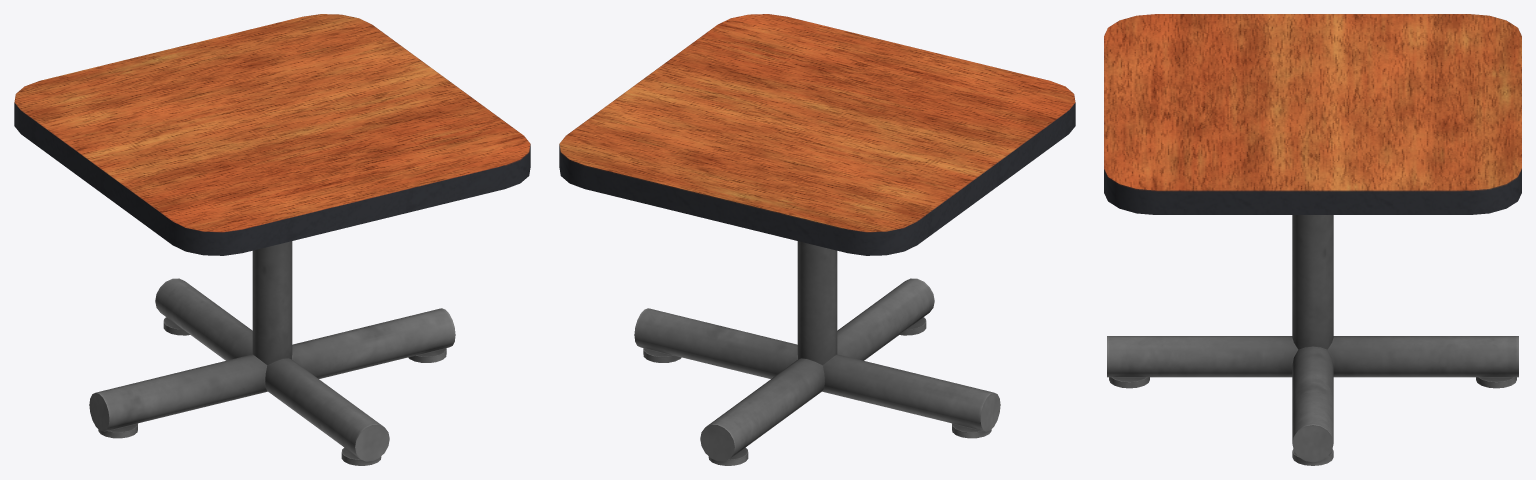
Rendered from BreakroomTable.fbx.
3 views of the same model, side by side, from view 1: azimuth 30°, elevation 25°; view 2: azimuth 150°, elevation 25°; view 3: azimuth 270°, elevation 25° (orthographic). The views are drawn at different scales.
Visible parts, largest first — view 1: BreakroomTable; view 2: BreakroomTable; view 3: BreakroomTable.
Boxes of the visible parts, box(x1,y1,x2,y2) form: BreakroomTable: box(14, 14, 530, 465); BreakroomTable: box(559, 14, 1075, 465); BreakroomTable: box(1104, 14, 1521, 465).
Bounding box in the file's own units: 165 × 121 × 165.
